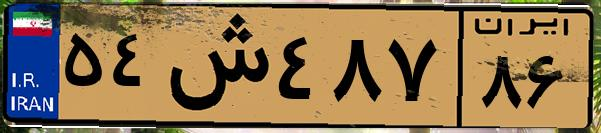4: (270, 28, 330, 110), (110, 28, 158, 98)
5: (57, 26, 110, 100)
6: (525, 38, 570, 115)
7: (385, 28, 445, 110)
8: (330, 28, 385, 110), (475, 38, 525, 113)
ش: (158, 12, 270, 120)
